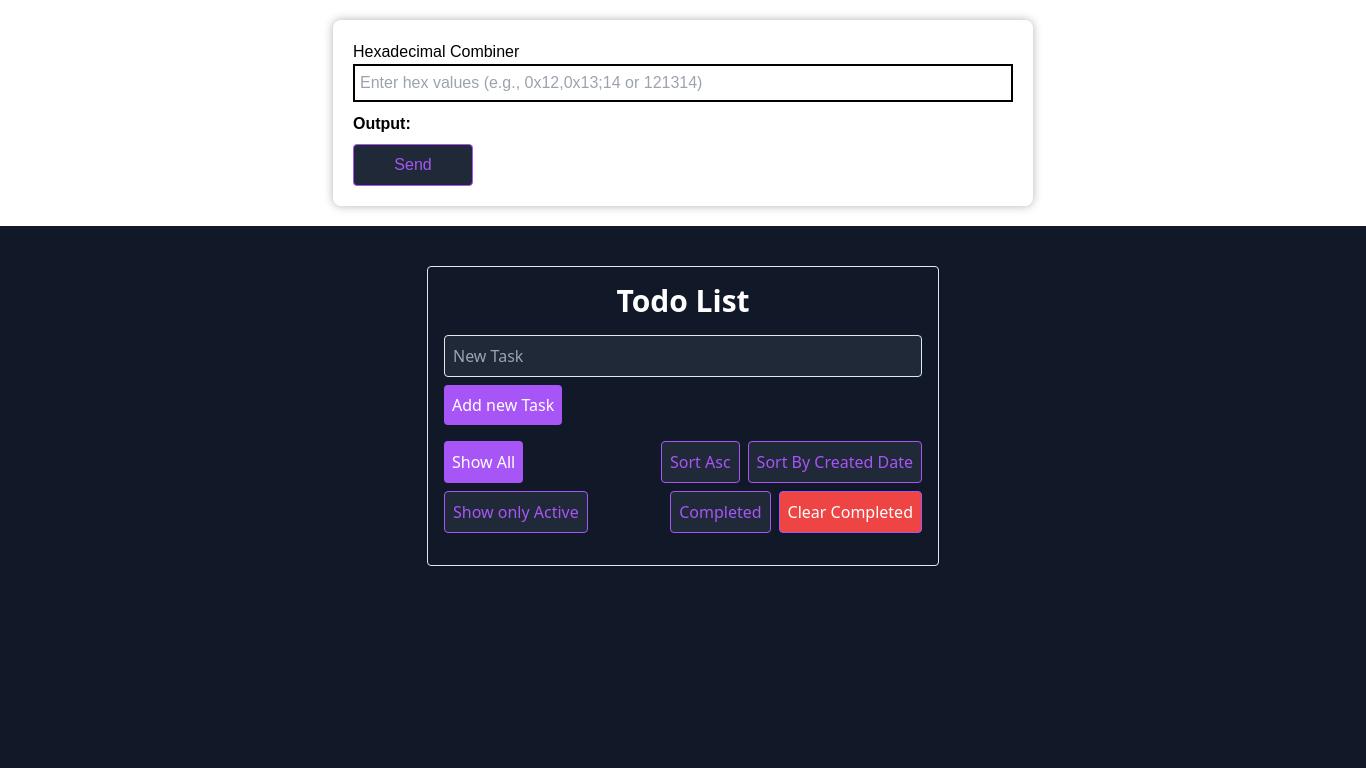
Test case: HexCombiner Component › should correctly combine hex values with valid input: 0x12, 0x13 => 0x1213
The width and height of the screenshot is (1366, 768).
Type "0x12, 0x13" into the field with id "hexInput".
click(683, 83); type("0x12, 0x13")  # box [353, 64, 1013, 102]
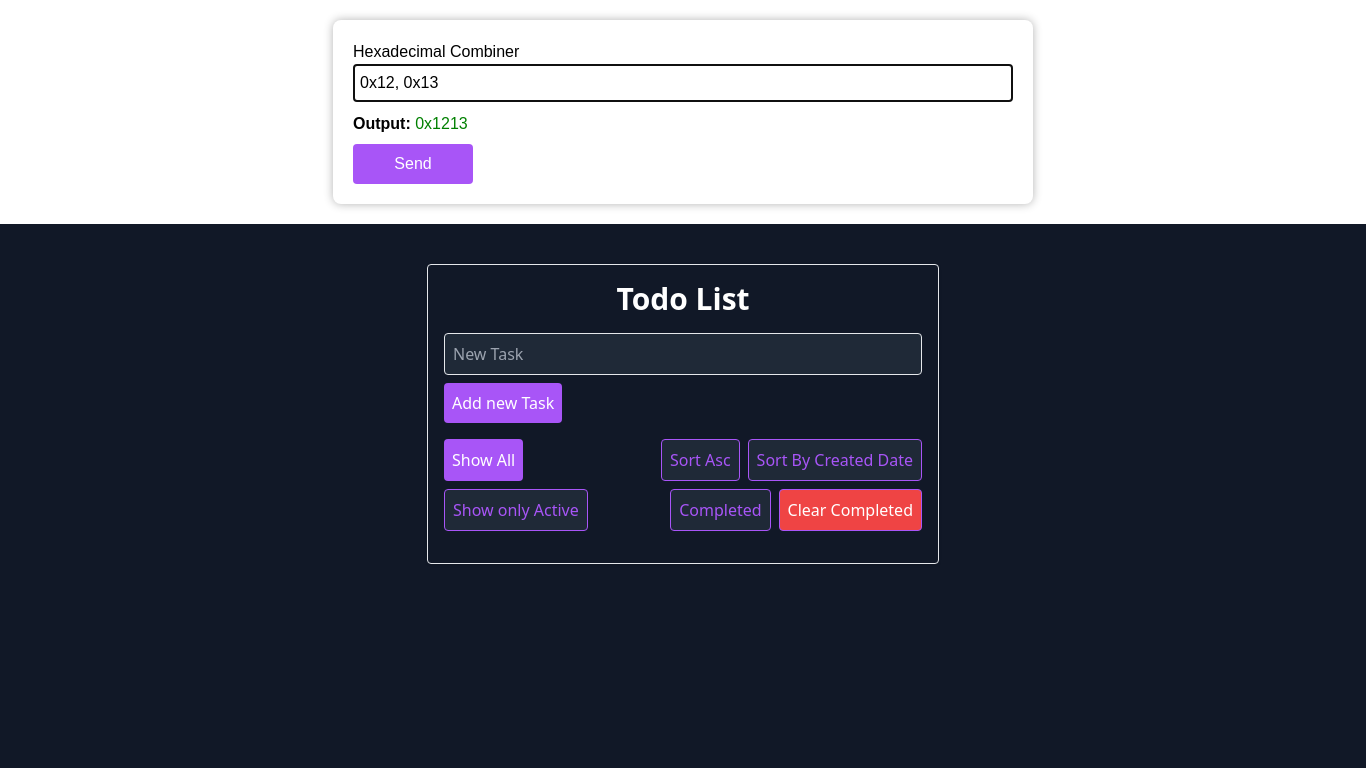
Expected: the element with id "resultContainer" shows "0x1213", [353, 115, 468, 132]
